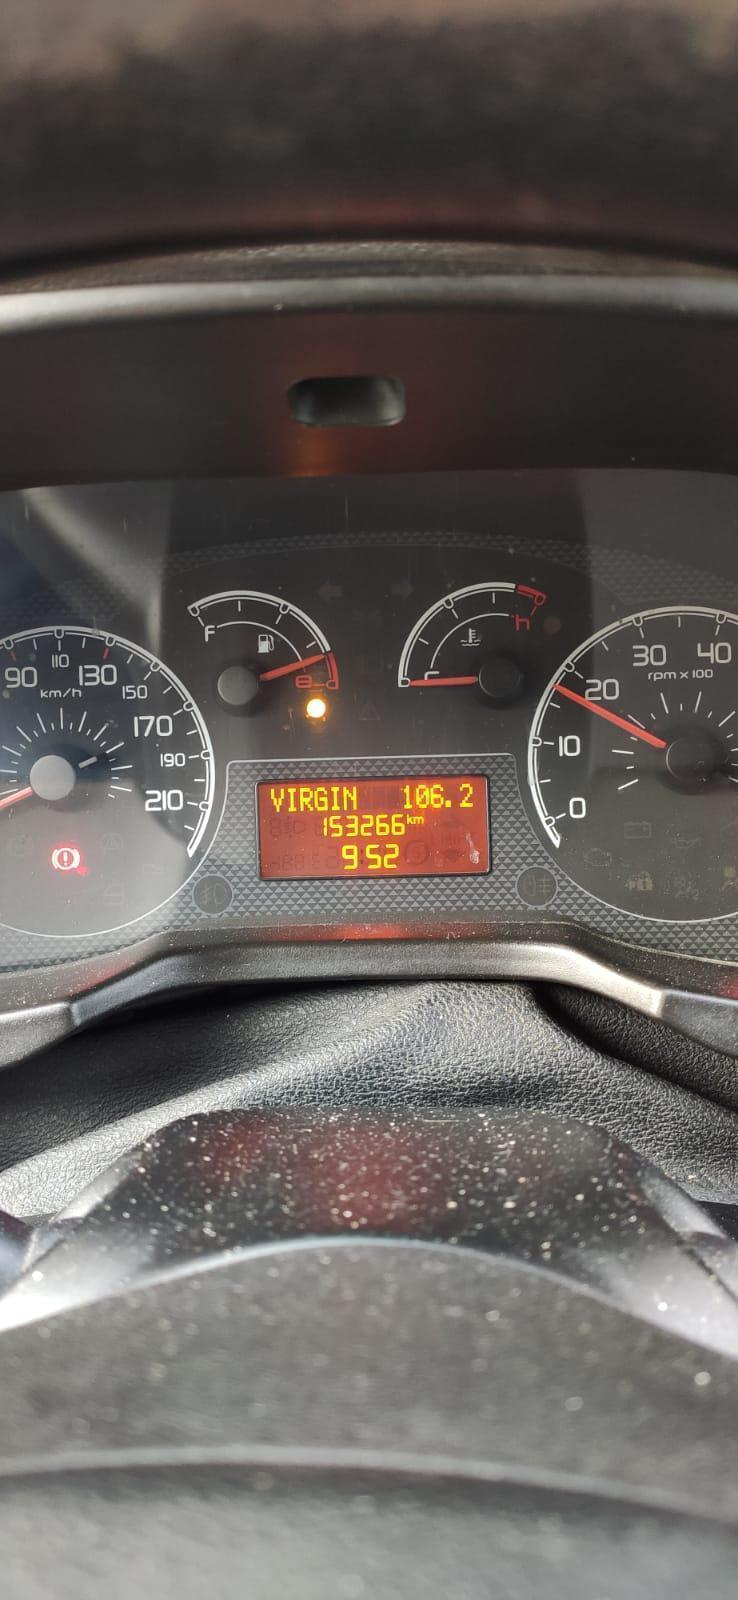,: (444, 798, 453, 811)
0: (415, 782, 428, 809)
1: (402, 783, 413, 810), (321, 814, 328, 839)
2: (383, 842, 399, 869), (458, 783, 474, 809), (359, 813, 373, 836)
3: (344, 814, 358, 837)
5: (365, 843, 383, 869), (328, 813, 342, 837)
6: (390, 811, 405, 835), (429, 784, 443, 808), (375, 812, 389, 835)
9: (340, 842, 357, 872)
X: (341, 785, 358, 811), (298, 785, 313, 813), (268, 786, 284, 811), (313, 786, 327, 811), (329, 785, 340, 811), (286, 786, 296, 813), (413, 815, 424, 824), (406, 812, 413, 824)
odometer: (252, 774, 494, 887)
